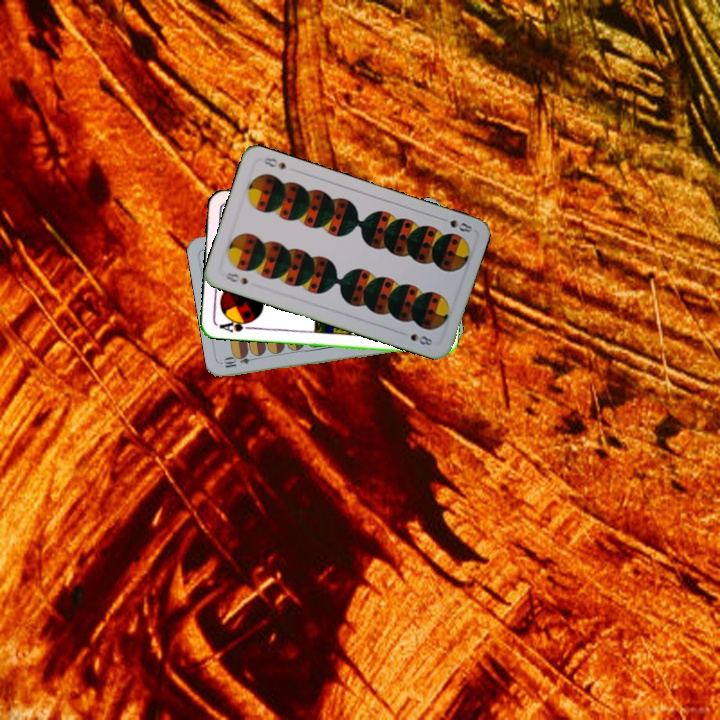E10: (220, 352, 260, 371)
S8: (435, 213, 475, 235), (221, 268, 250, 287)
SA: (213, 315, 254, 335)
